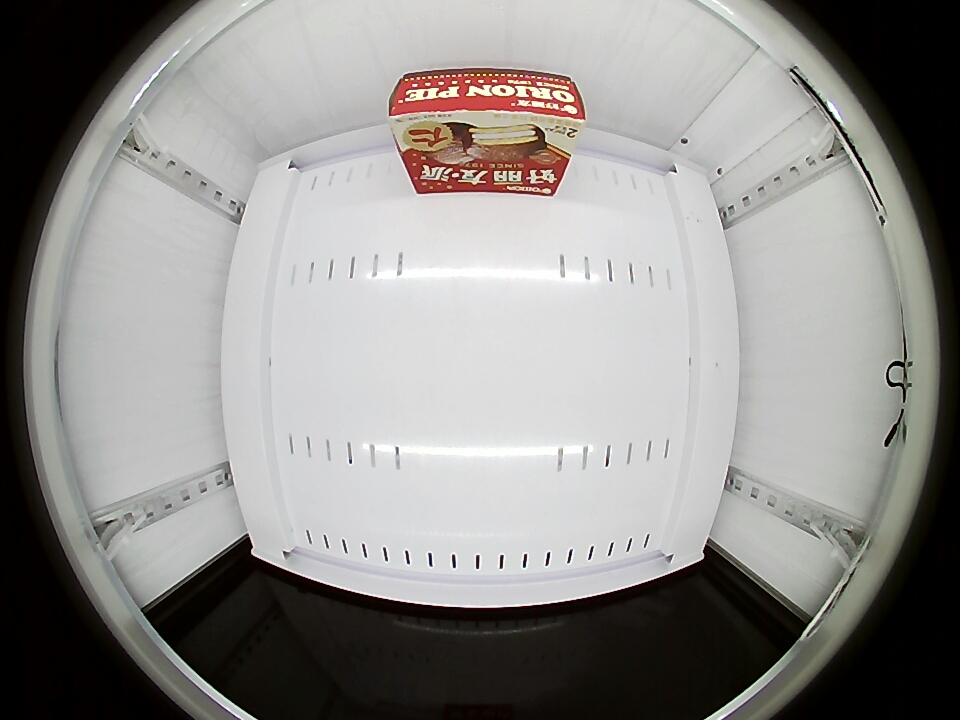haoliyou: (387, 68, 587, 147), (396, 139, 577, 195)
